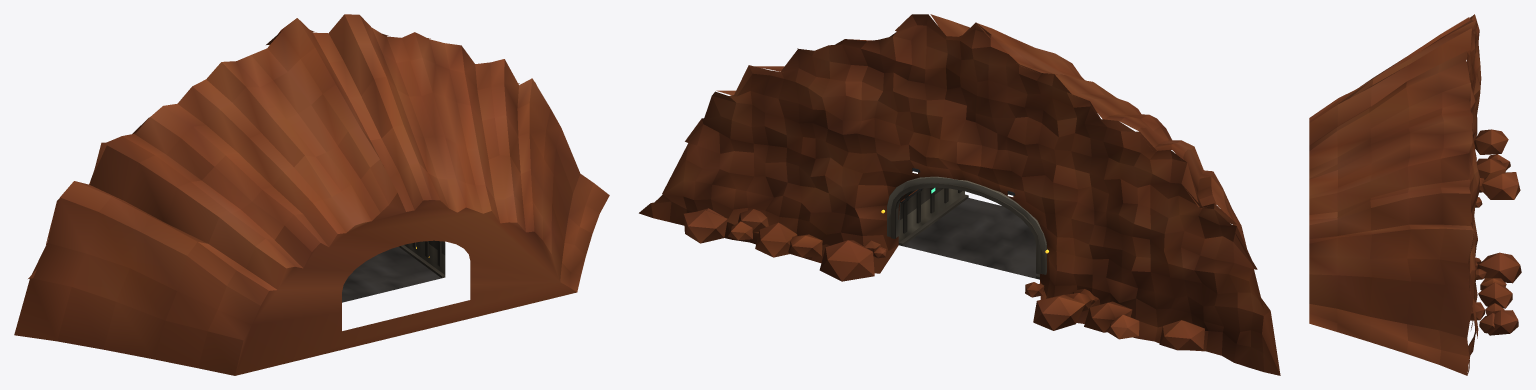
Rendered from tunnel_portal_rock.glb.
3 views of the same model, side by side, from view 1: azimuth 30°, elevation 25°; view 2: azimuth 150°, elevation 25°; view 3: azimuth 270°, elevation 25° (orthographic). The views are drawn at different scales.
Visible parts, largest first — view 1: rock_red, road_surface, concrete_dark, concrete; view 2: rock_red, road_surface, concrete, concrete_dark; view 3: rock_red.
Boxes of the visible parts, x1,y1,x2,y2 form: rock_red: (14,14,609,375); road_surface: (342,246,441,302); concrete_dark: (399,240,445,278); concrete: (404,241,445,274); rock_red: (639,14,1280,375); road_surface: (903,198,1038,278); concrete: (887,176,1047,274); concrete_dark: (891,183,1040,279); rock_red: (1309,14,1521,375).
Size of what is drawn, in the model's own units: 68 by 27.69 by 24.51.
